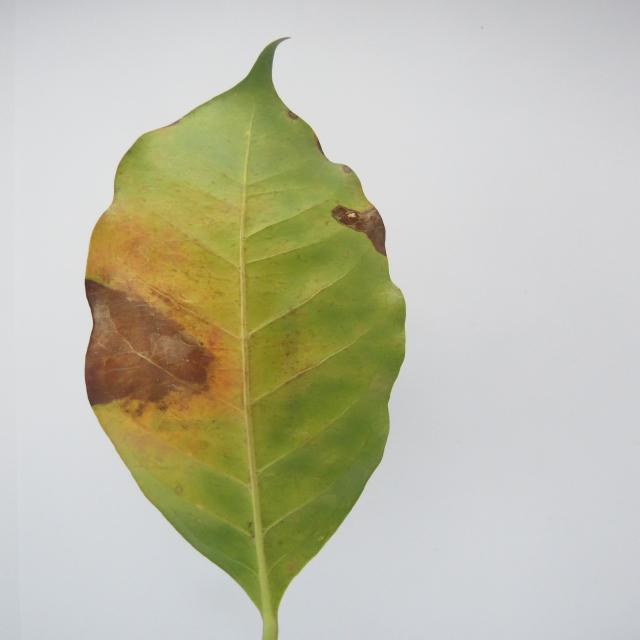DeficienciaNutricional-Fosforo: (87, 41, 405, 640)
